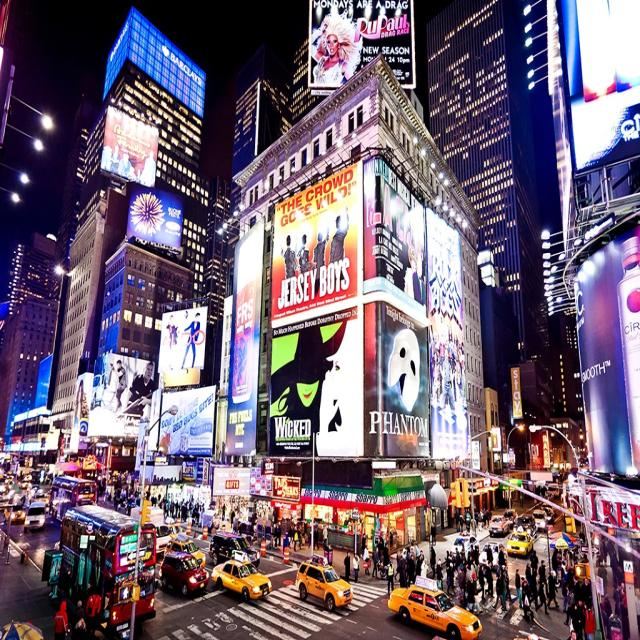body: (380, 490, 640, 639), (373, 242, 467, 479), (0, 454, 222, 530), (222, 494, 380, 576), (269, 319, 364, 448), (51, 525, 104, 605), (311, 10, 364, 86), (102, 109, 156, 182), (126, 359, 157, 422), (279, 233, 300, 303), (328, 203, 350, 264), (295, 233, 313, 303), (312, 227, 329, 300), (181, 310, 201, 369), (109, 358, 129, 414), (467, 441, 494, 482), (71, 375, 88, 440), (164, 309, 188, 355), (116, 576, 155, 600), (84, 585, 101, 639), (527, 470, 571, 490), (51, 599, 70, 639), (222, 452, 267, 468), (508, 567, 524, 609), (520, 577, 534, 618), (546, 569, 560, 609), (581, 576, 593, 622), (466, 565, 476, 613), (596, 560, 608, 599), (72, 607, 86, 639), (484, 559, 495, 599), (396, 553, 408, 589), (446, 560, 458, 595), (476, 563, 486, 602), (538, 559, 548, 598), (232, 563, 256, 579), (386, 558, 395, 597), (498, 544, 507, 583), (530, 548, 540, 583), (174, 558, 199, 572), (362, 544, 372, 576), (314, 570, 336, 583), (343, 550, 351, 585), (352, 551, 361, 582), (436, 558, 444, 592), (429, 545, 437, 578), (428, 520, 438, 546), (74, 599, 85, 622), (372, 545, 379, 579), (312, 525, 320, 550), (321, 524, 328, 550), (484, 544, 494, 562), (444, 549, 451, 574), (421, 556, 428, 579), (361, 532, 367, 558), (566, 629, 580, 640), (273, 523, 279, 548), (453, 508, 459, 532), (525, 562, 531, 586), (578, 528, 586, 546), (277, 520, 282, 547), (414, 541, 420, 562), (174, 499, 180, 519), (302, 516, 307, 540), (221, 502, 227, 520), (163, 501, 169, 519), (478, 511, 483, 532), (308, 528, 312, 550), (230, 509, 233, 529)
